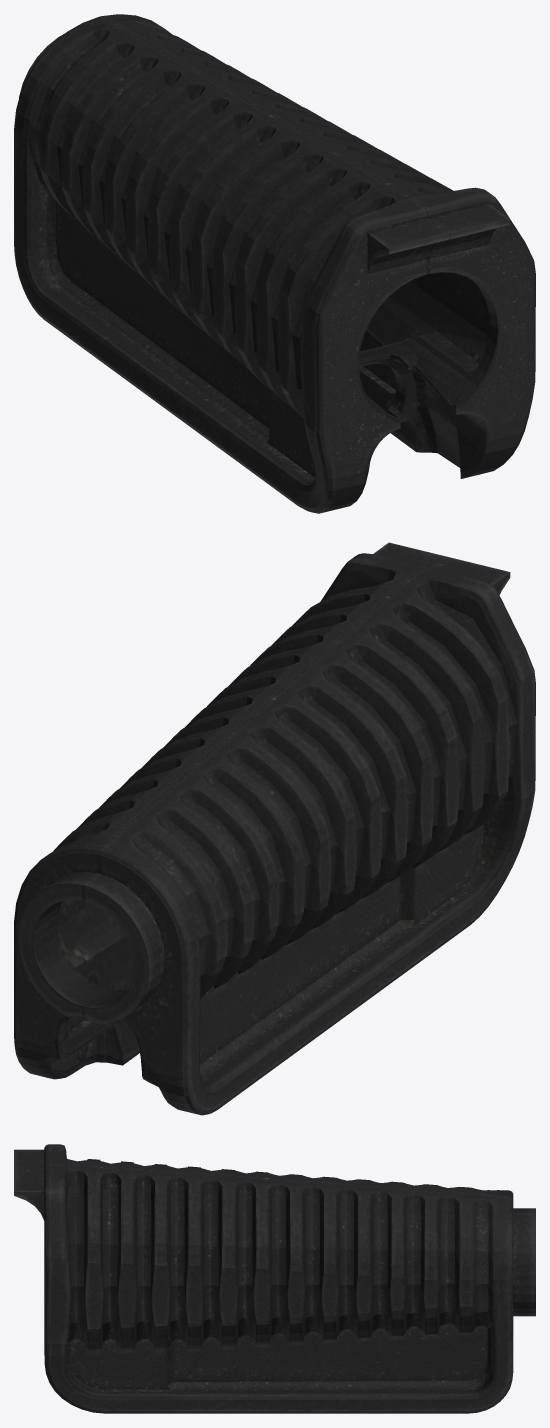
The picture shows the model from 3 angles, top to bottom: view 1: azimuth 30°, elevation 25°; view 2: azimuth 150°, elevation 25°; view 3: azimuth 270°, elevation 25°; orthographic projection. The views are drawn at different scales.
Visible parts, largest first — view 1: TW_644675573d52156624001fc9_PZ_Import; view 2: TW_644675573d52156624001fc9_PZ_Import; view 3: TW_644675573d52156624001fc9_PZ_Import.
Boxes of the visible parts, <box> form: TW_644675573d52156624001fc9_PZ_Import: <box>14,14,535,513</box>; TW_644675573d52156624001fc9_PZ_Import: <box>14,542,535,1115</box>; TW_644675573d52156624001fc9_PZ_Import: <box>14,1144,535,1413</box>.
Size of the model in its own units: 0.0249 by 0.0716 by 0.0334.
1 material, 1 textured.
